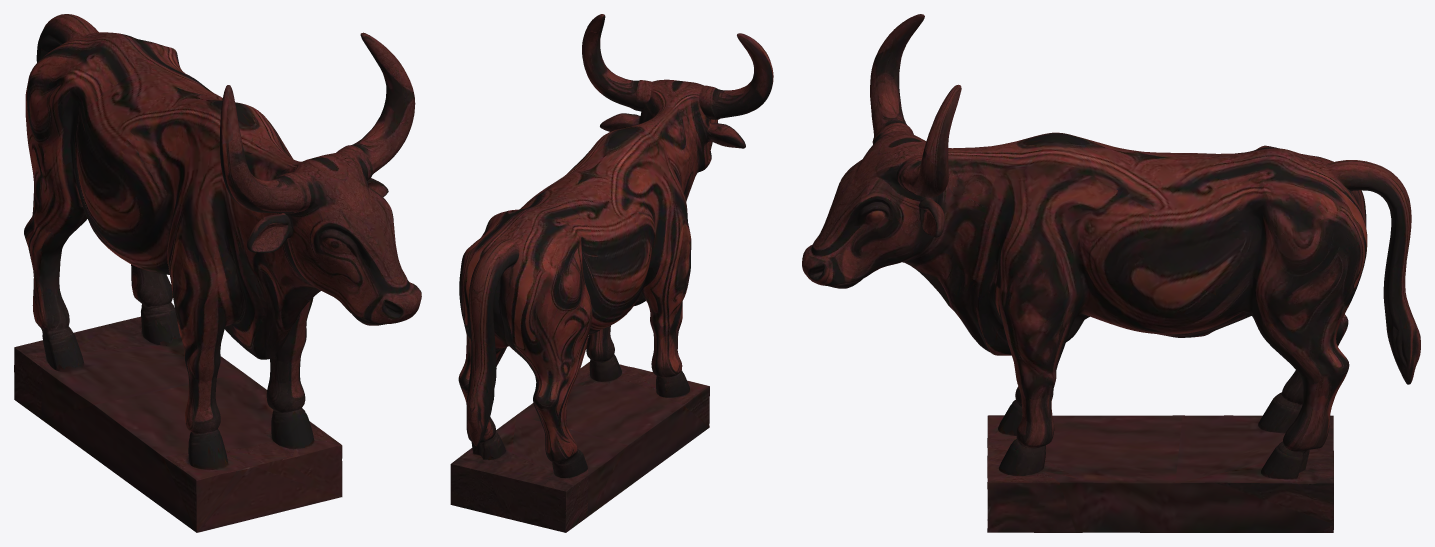
Rendered from omby.glb.
The picture shows the model from 3 angles, left to right: view 1: azimuth 30°, elevation 25°; view 2: azimuth 150°, elevation 25°; view 3: azimuth 270°, elevation 25°; orthographic projection. The views are drawn at different scales.
Bounding box in the file's own units: 0.721 × 1.53 × 1.9.
1 material, 1 textured.
